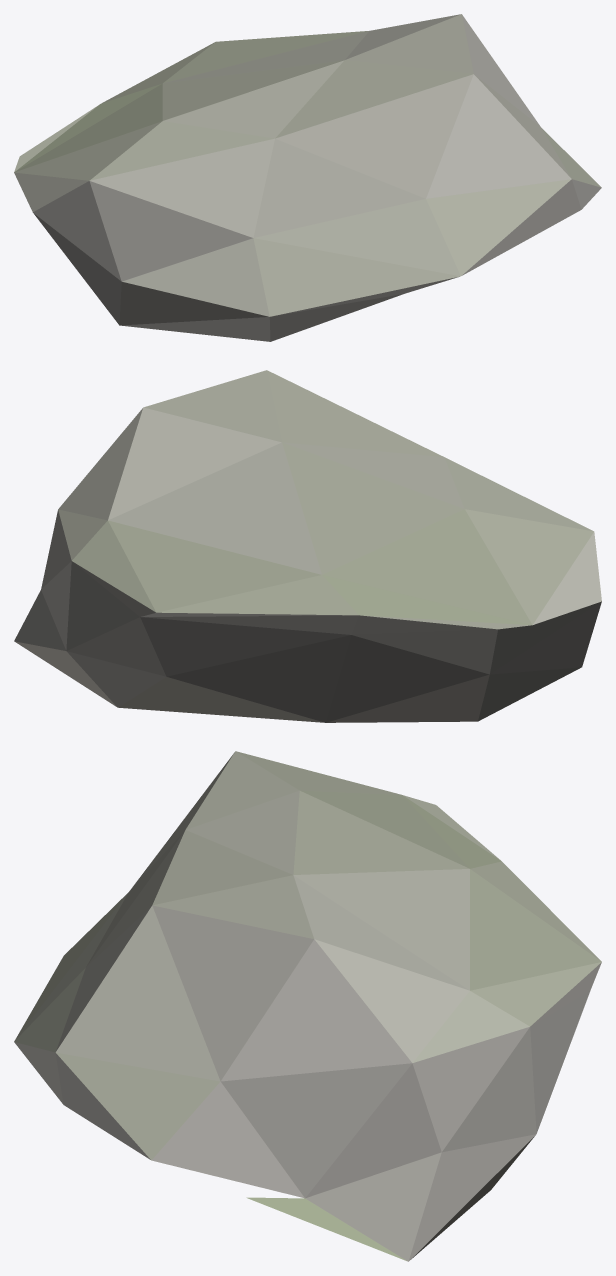
File: far_b.glb
The picture shows the model from 3 angles, top to bottom: view 1: azimuth 30°, elevation 25°; view 2: azimuth 150°, elevation 25°; view 3: azimuth 270°, elevation 25°; orthographic projection. The views are drawn at different scales.
Parts seen in each view (by area): view 1: pedra_dof_b; view 2: pedra_dof_b; view 3: pedra_dof_b.
Part boxes in pixels (x1,y1,x2,y2): pedra_dof_b: (14,14,601,341); pedra_dof_b: (14,370,601,722); pedra_dof_b: (14,751,601,1261).
Size of the model in its own units: 1.95 by 0.804 by 1.53.
